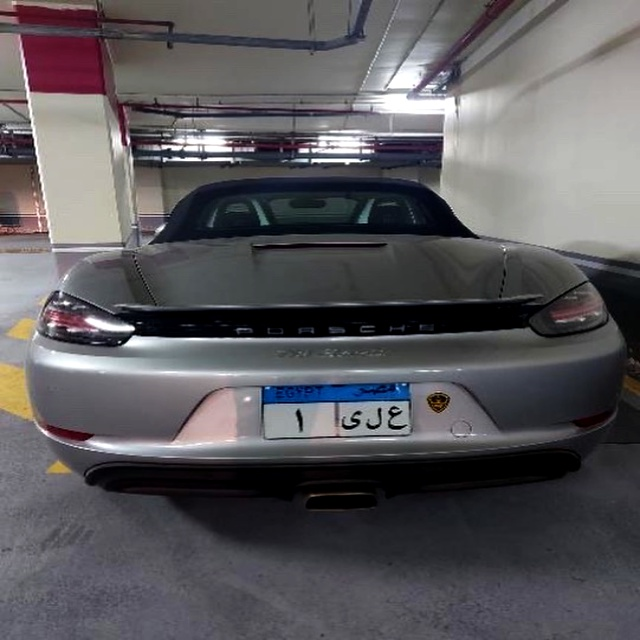License Plate: (258, 379, 415, 443)
